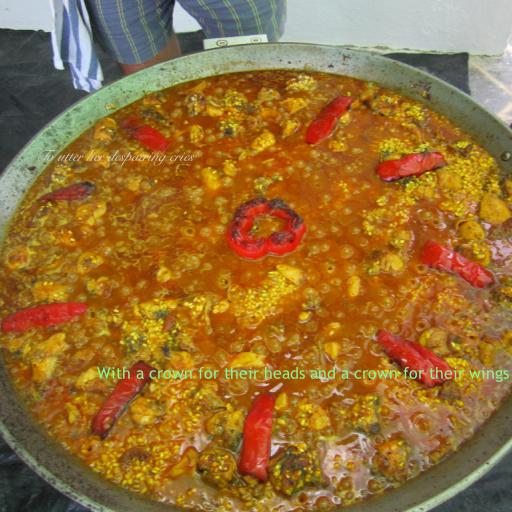Snell Roundhand: (36, 149, 194, 167)
Trebuchet MS: (97, 366, 509, 383)
